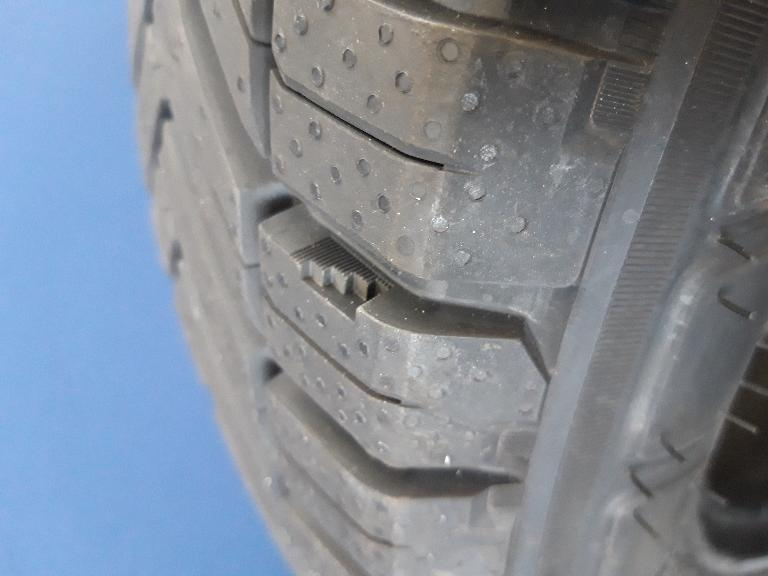temoin:100: (284, 232, 400, 326)
